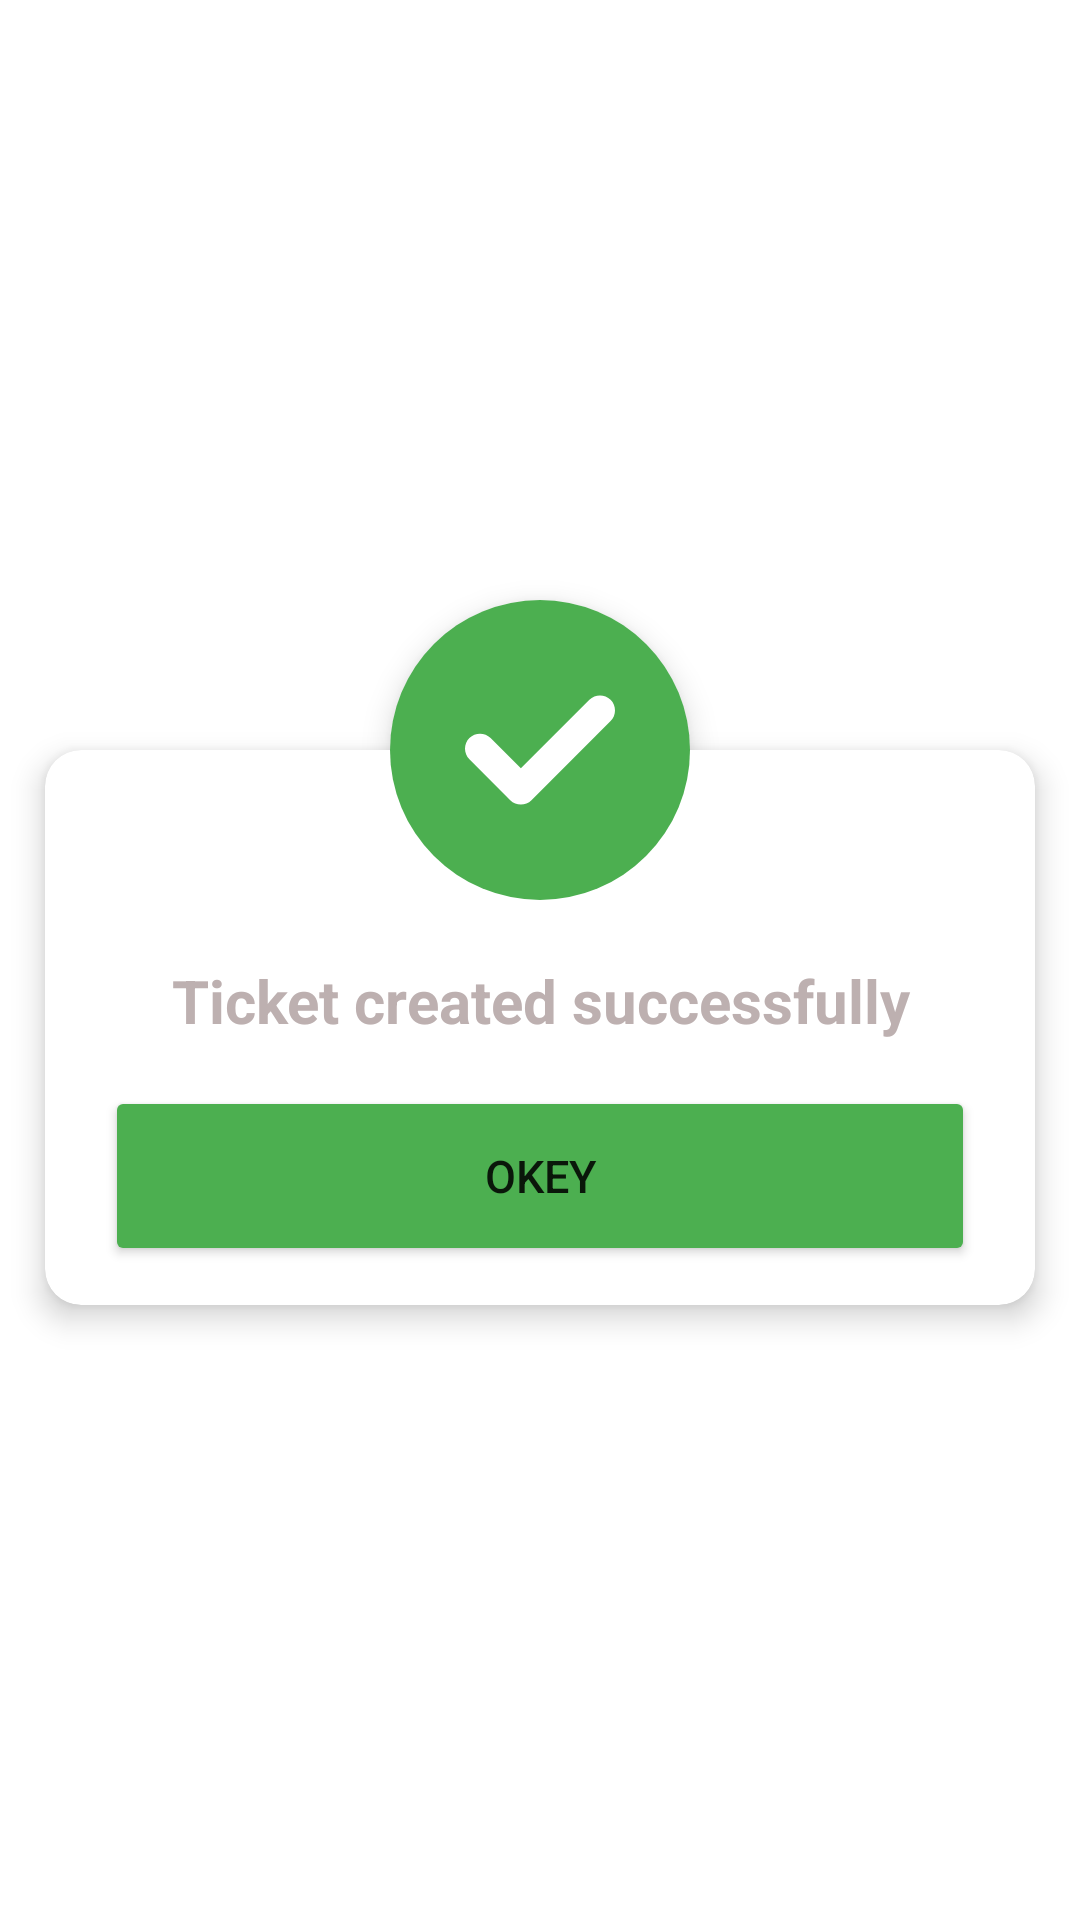

Icon click points for this 1080*1920 phone screenshot, format point (x, y):
check for successfull one: point (540, 750)
